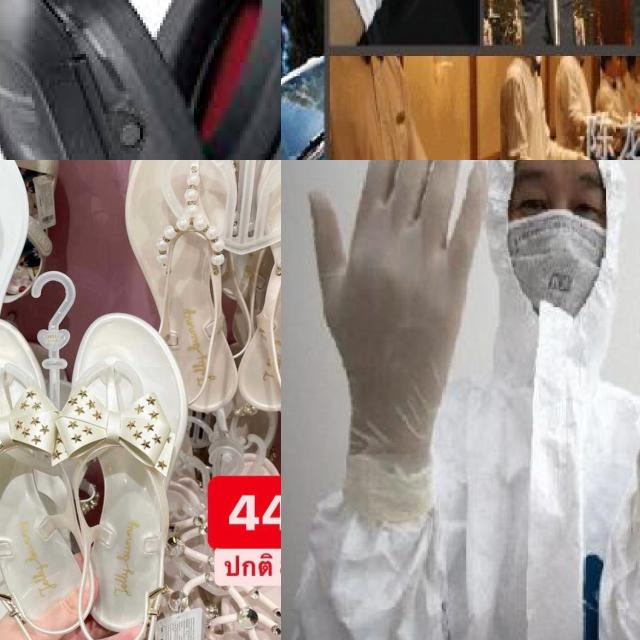Ear-protection: (0, 0, 208, 160), (151, 0, 281, 160)
No_Glasses: (506, 174, 615, 230)
Sandals: (0, 296, 201, 640), (105, 160, 281, 426)
face_nomask: (501, 160, 614, 344)
hand_glove: (305, 160, 488, 464)
person: (281, 160, 640, 640)
